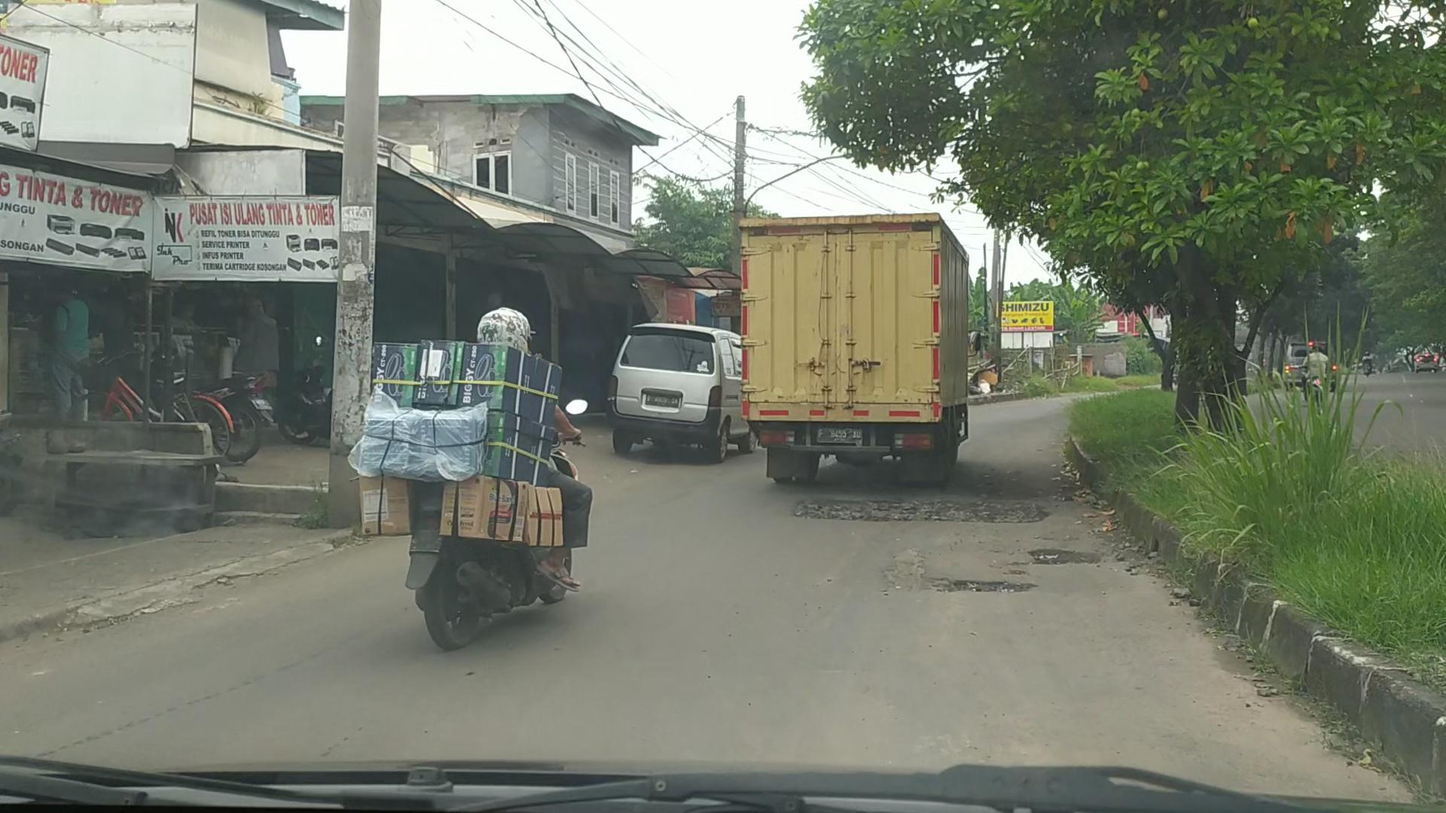pothole: (792, 495, 1052, 525), (884, 547, 1038, 596), (1004, 546, 1109, 569)
